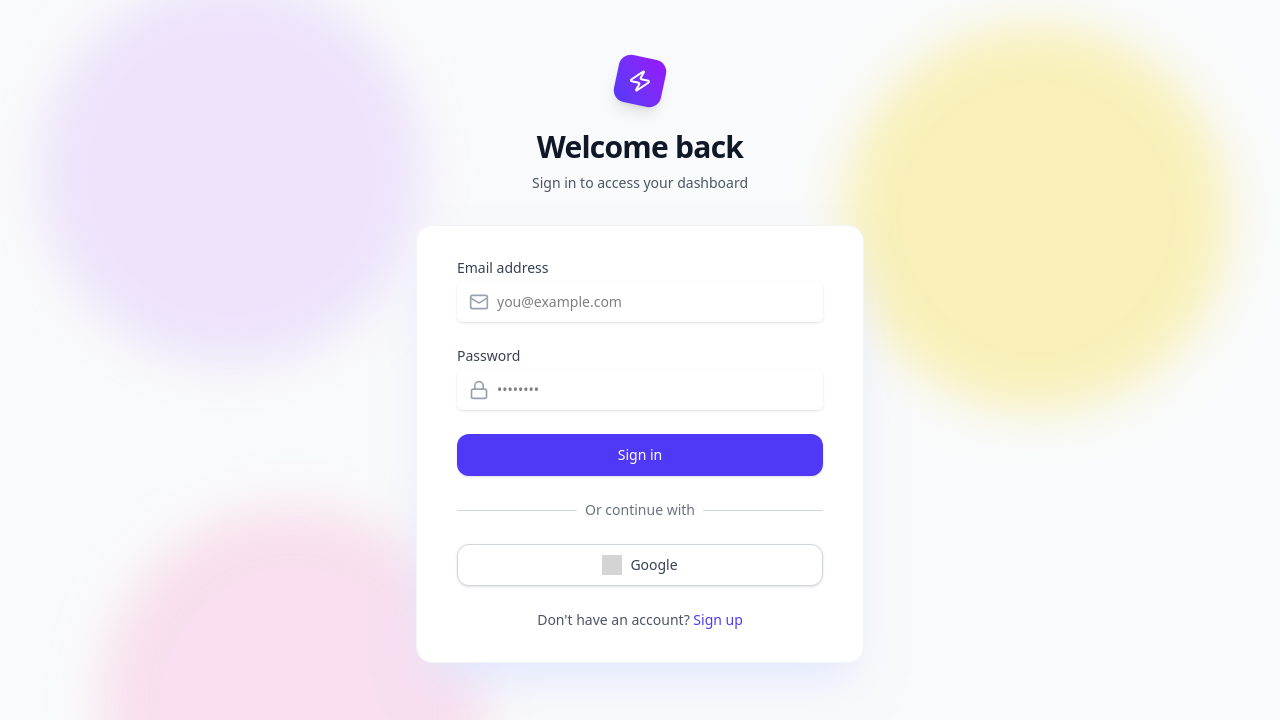
Test: Authentication Flow › should switch to sign up mode
Click the button "Sign up": (718, 620) [693,610,743,630]
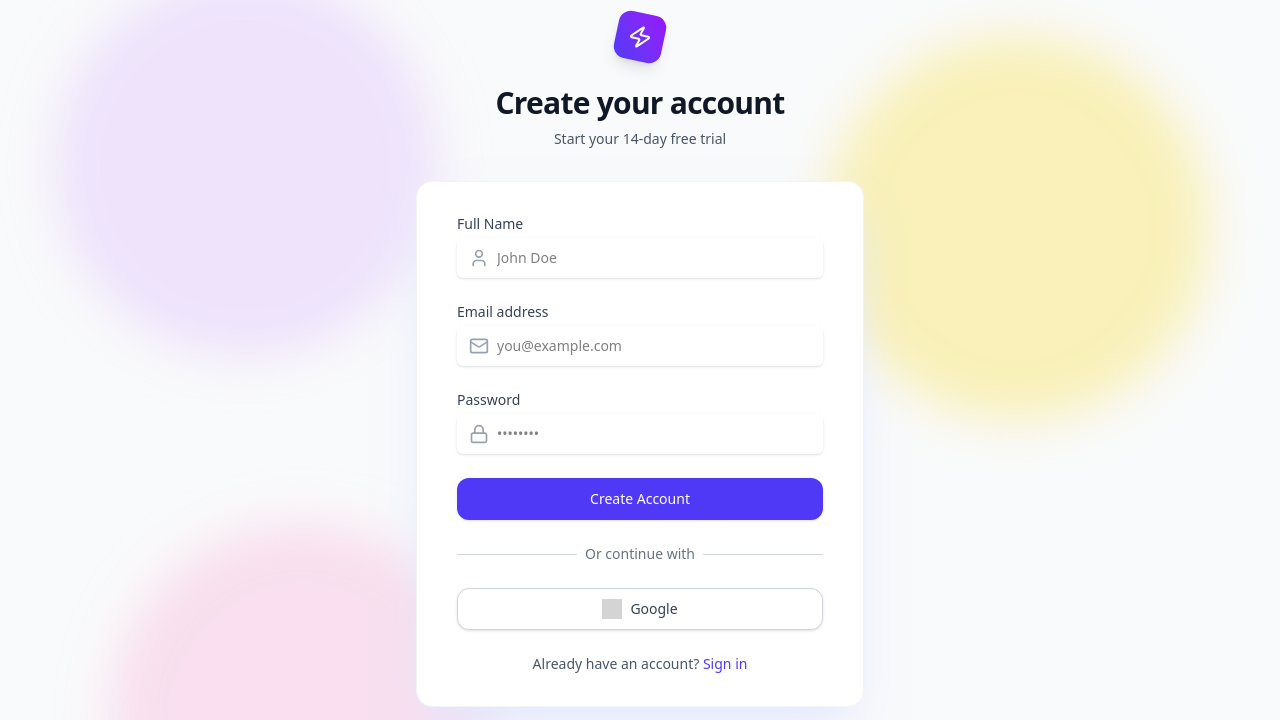
Expected: the heading "Create your account" is shown, [496,82,784,123]
Expected: the field named "fullName" is shown, [457,238,823,278]
Expected: the button "Create Account" is shown, [457,478,823,520]
